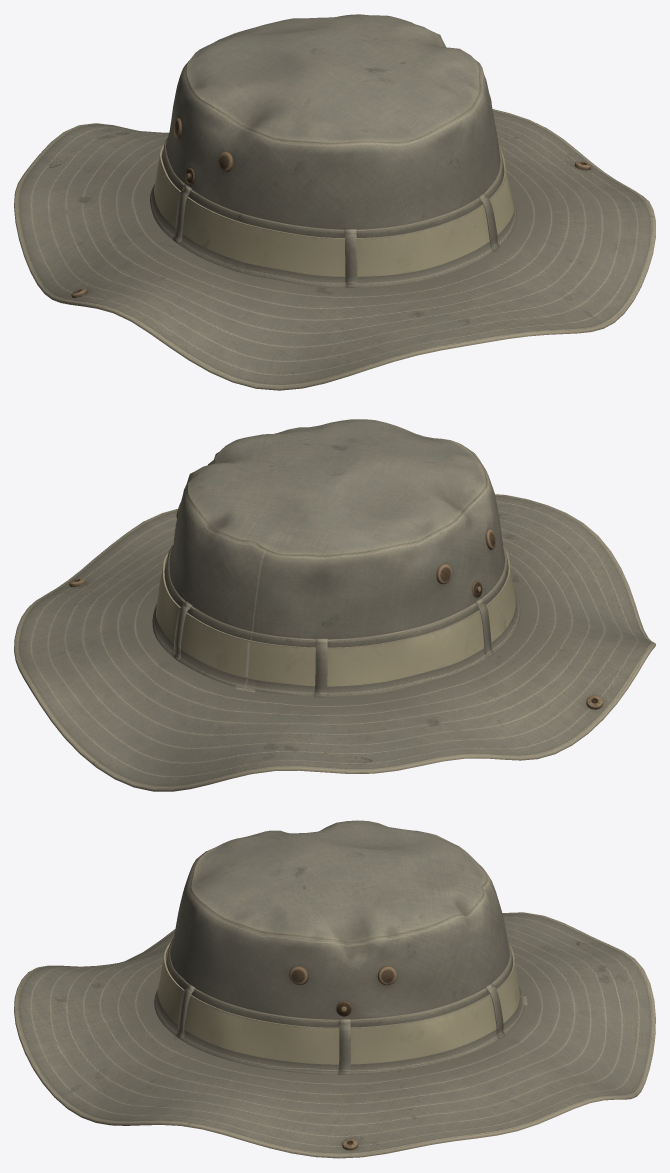
Rendered from fishermans_hat_1k.gltf.
3 renders of one model, top to bottom at view 1: azimuth 30°, elevation 25°; view 2: azimuth 150°, elevation 25°; view 3: azimuth 270°, elevation 25°, orthographic. The views are drawn at different scales.
Visible parts, largest first — view 1: fishermans_hat; view 2: fishermans_hat; view 3: fishermans_hat.
Part boxes in pixels (box(x1,y1,x2,y2)): fishermans_hat: box(14, 14, 655, 390); fishermans_hat: box(14, 419, 655, 791); fishermans_hat: box(14, 820, 655, 1158).
Bounding box in the file's own units: 0.3236 × 0.1239 × 0.35.
1 material, 1 textured.
